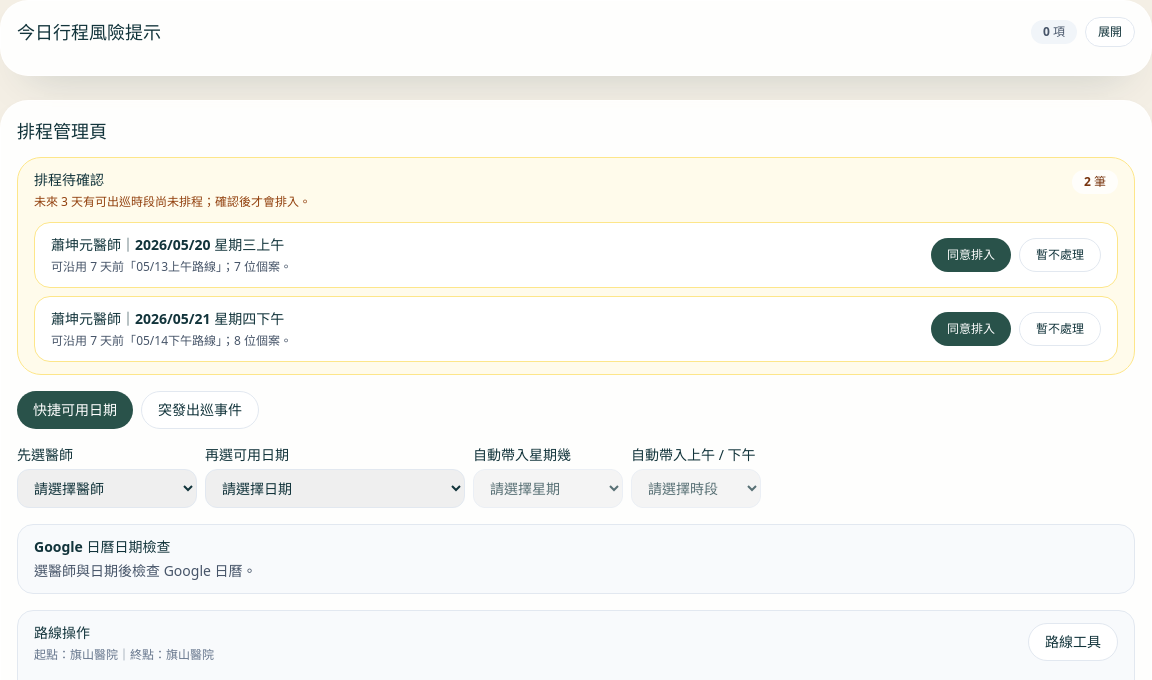
Test: AdminPages › AdminSchedulesPage 選日期後會呼叫後端 Calendar 檢查當日行程
Select "蕭坤元醫師" in the dropdown named "篩選醫師" at (107, 488), box [17,469,197,508]
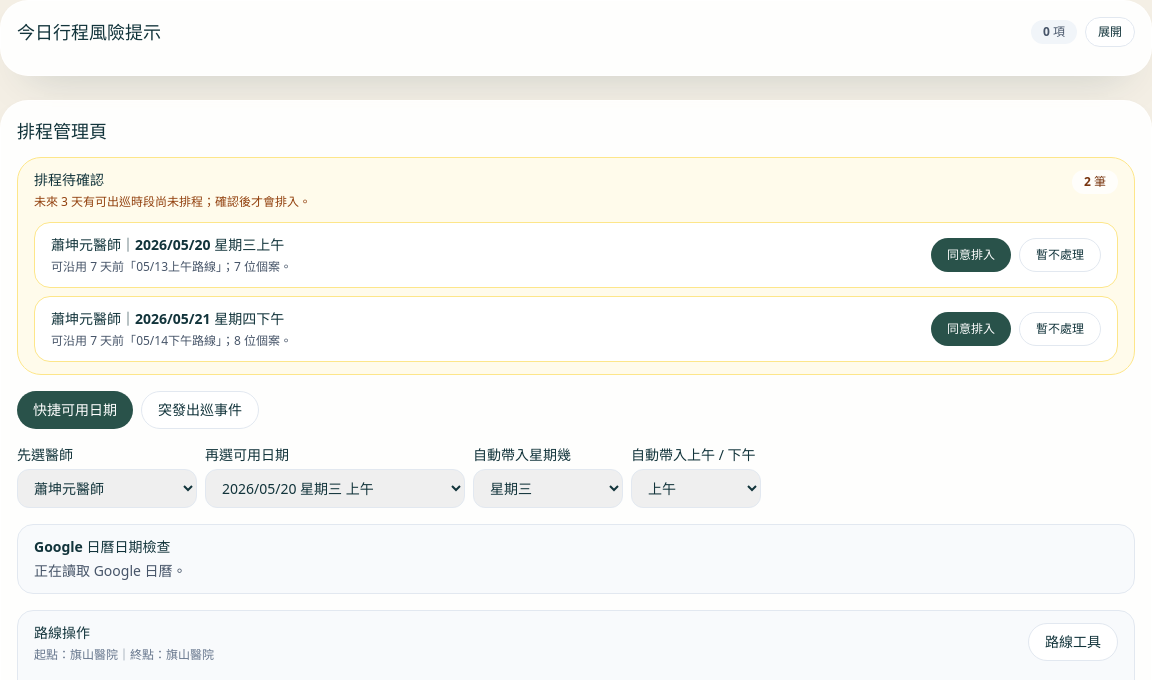
Select "2026/05/06 星期三 上午" in the dropdown named "路線日期" at (335, 488), box [205,469,465,508]
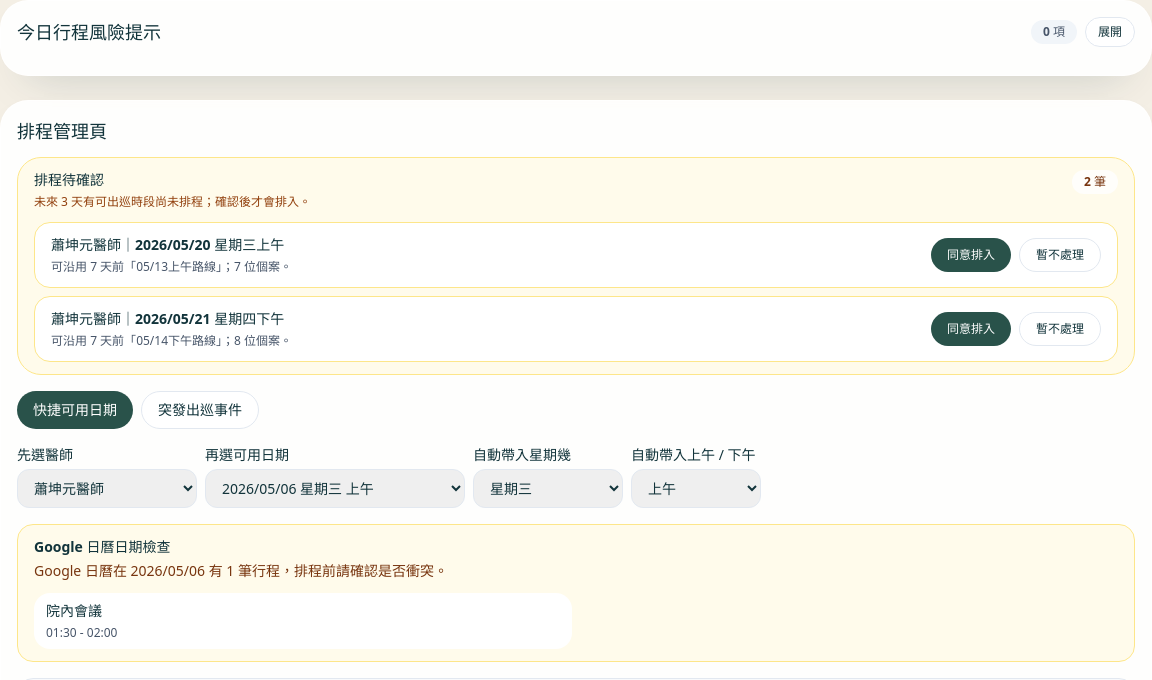
Expected: the text "院內會議" is shown, [46,601,102,620]
